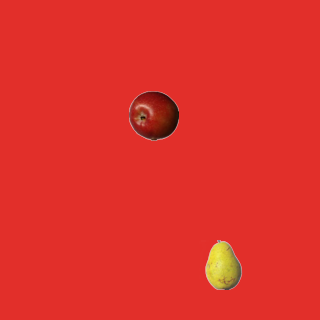Apple Braeburn: (128, 90, 178, 140)
Pear Monster: (198, 239, 248, 289)
